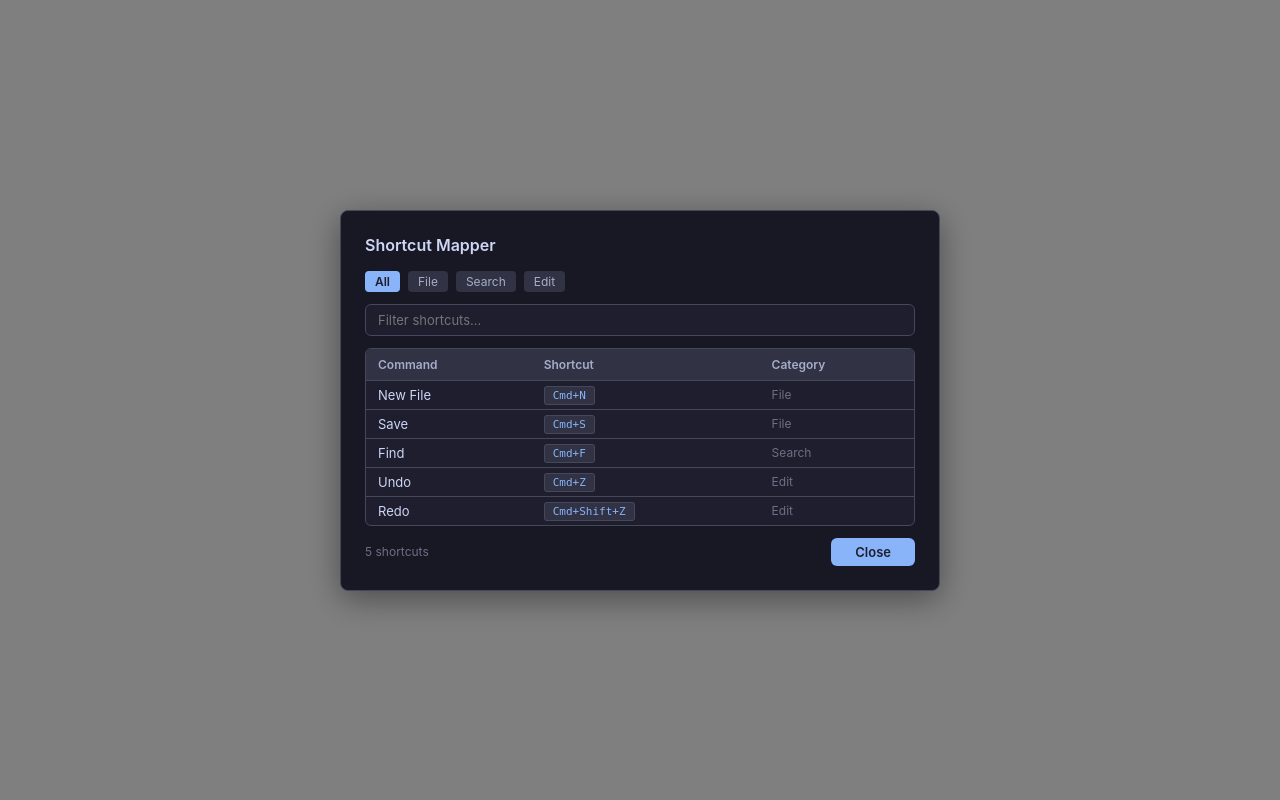
Scenario: ShortcutMapperDialog › filters shortcuts by category tab selection
# First File is the tab (span), second is in table
Click the text "File": coordinates (428, 281) 408,270 -> 448,292
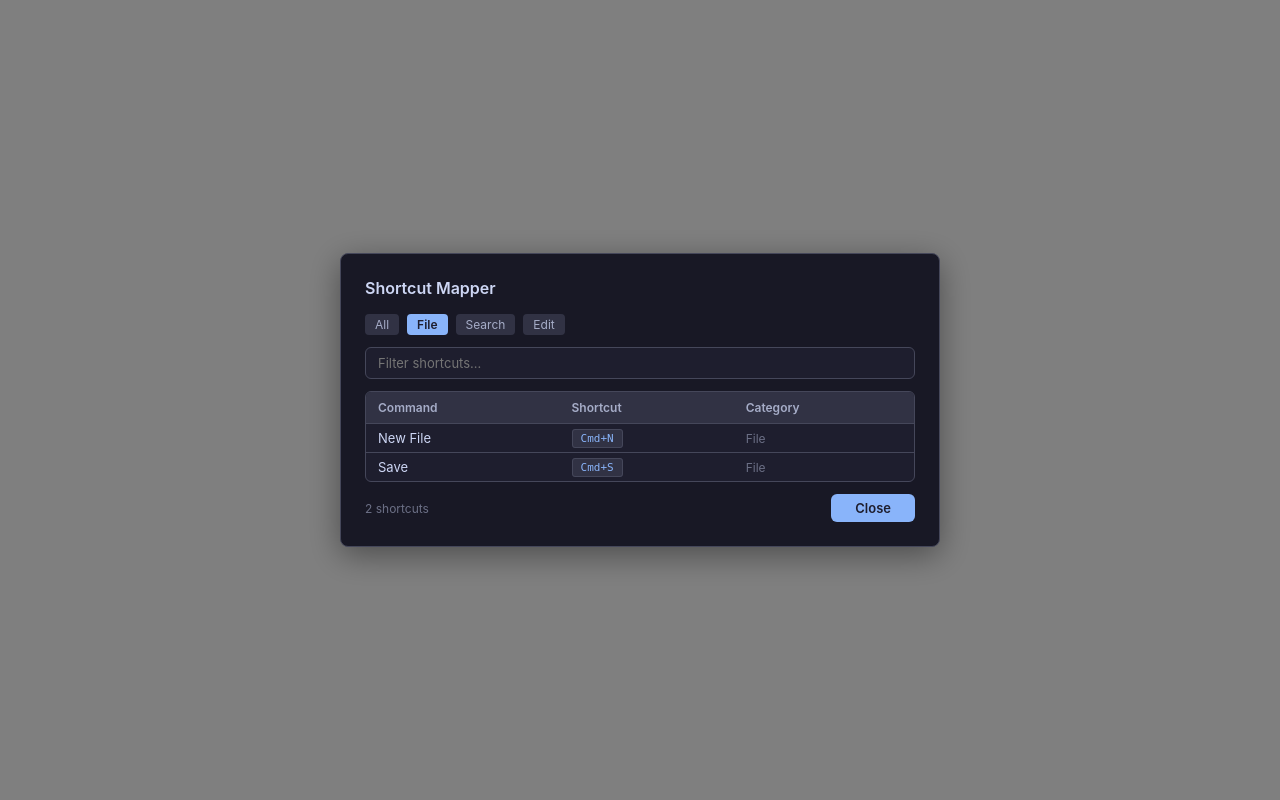
Expected: the text "New File" is shown, 366,424 -> 560,452
Expected: the text "Find" is gone
Expected: the text "Undo" is gone
